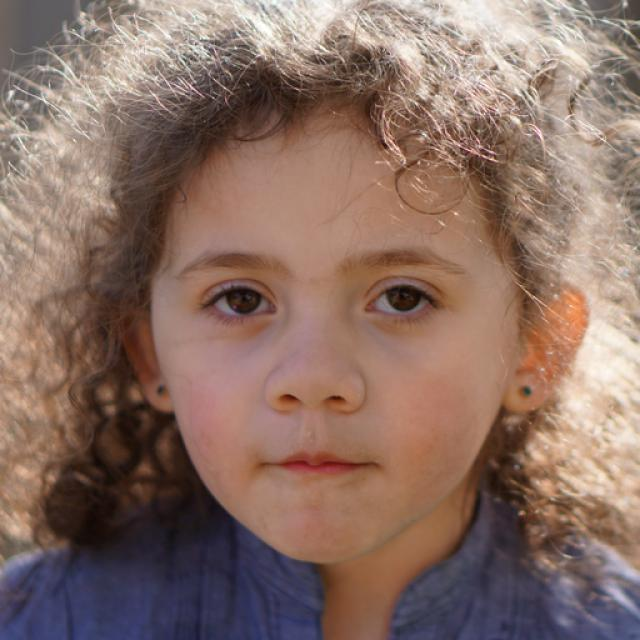neutral: (156, 118, 506, 562)
